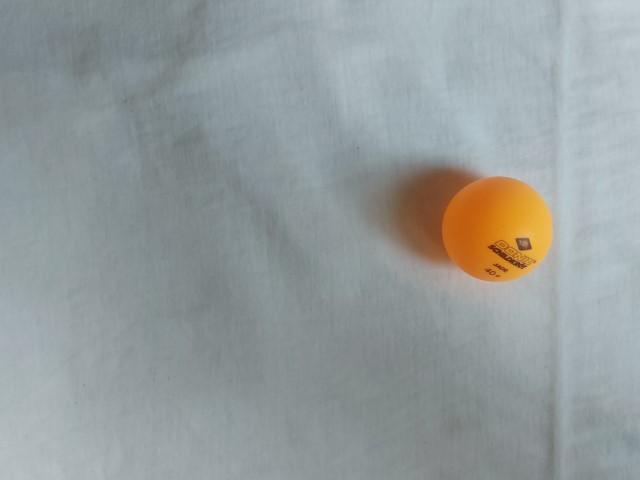oball: (430, 169, 563, 290)
